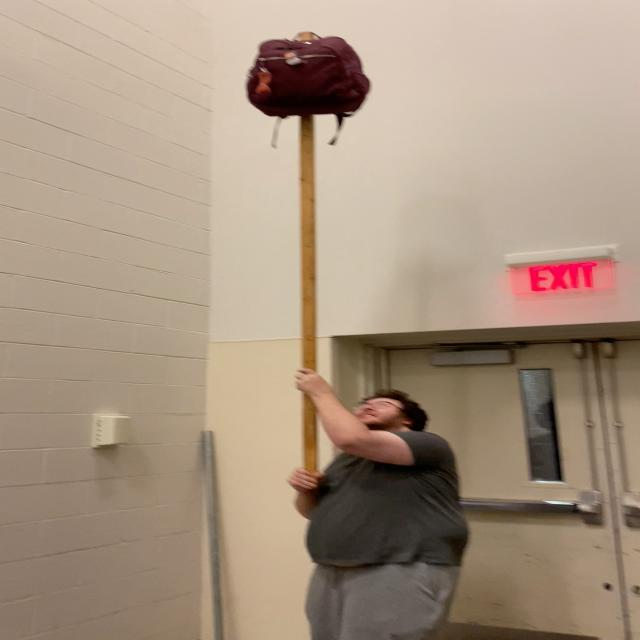Backpacks: (250, 27, 372, 125)
